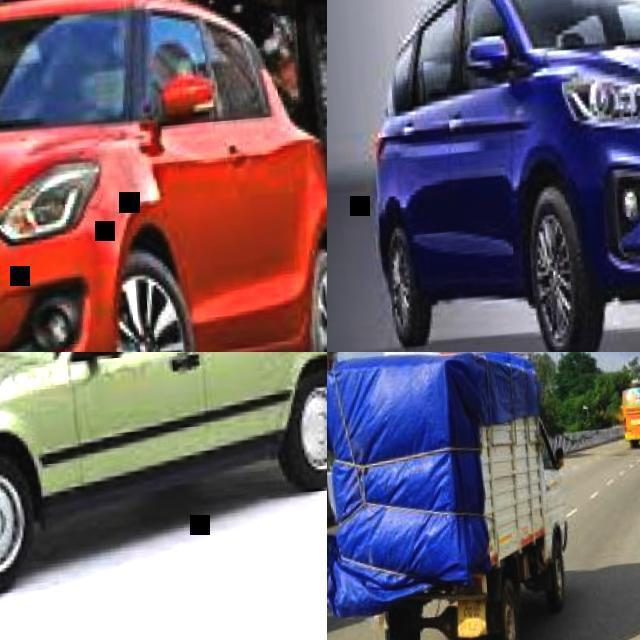car: (1, 4, 342, 628), (370, 0, 640, 330)
